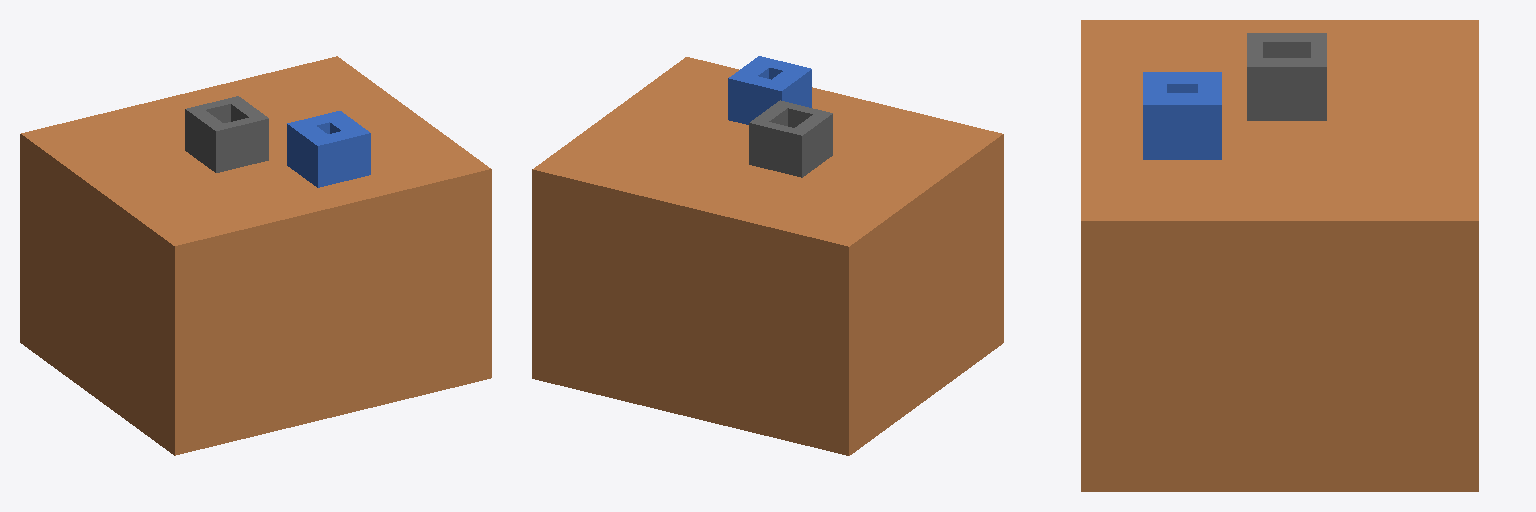
robot.urdf — peg_in_hole_fixtured_scene_0028_peg0003_tol04:
<?xml version="1.0"?>
<robot name="peg_in_hole_fixtured_scene_0028_peg0003_tol04">
  <material name="wood"><color rgba="0.82 0.56 0.35 1.0"/></material>
  <material name="start_fix"><color rgba="0.30 0.50 0.85 1.0"/></material>
  <material name="goal_fix"><color rgba="0.4706 0.4706 0.4706 1.0"/></material>
  <link name="box">
    <visual>
      <origin xyz="0.000000 0.000000 0.000000" rpy="0 0 0"/>
      <geometry><box size="0.475000 0.400000 0.300000"/></geometry>
      <material name="wood"/>
    </visual>
    <collision>
      <origin xyz="0.000000 0.000000 0.000000" rpy="0 0 0"/>
      <geometry><box size="0.475000 0.400000 0.300000"/></geometry>
    </collision>
    <visual>
      <origin xyz="0.052917 -0.097856 0.155000" rpy="0 0 0"/>
      <geometry><box size="0.080000 0.080000 0.010000"/></geometry>
      <material name="start_fix"/>
    </visual>
    <collision>
      <origin xyz="0.052917 -0.097856 0.155000" rpy="0 0 0"/>
      <geometry><box size="0.080000 0.080000 0.010000"/></geometry>
    </collision>
    <visual>
      <origin xyz="0.078167 -0.097856 0.185000" rpy="0 0 0"/>
      <geometry><box size="0.029500 0.080000 0.050000"/></geometry>
      <material name="start_fix"/>
    </visual>
    <collision>
      <origin xyz="0.078167 -0.097856 0.185000" rpy="0 0 0"/>
      <geometry><box size="0.029500 0.080000 0.050000"/></geometry>
    </collision>
    <visual>
      <origin xyz="0.027667 -0.097856 0.185000" rpy="0 0 0"/>
      <geometry><box size="0.029500 0.080000 0.050000"/></geometry>
      <material name="start_fix"/>
    </visual>
    <collision>
      <origin xyz="0.027667 -0.097856 0.185000" rpy="0 0 0"/>
      <geometry><box size="0.029500 0.080000 0.050000"/></geometry>
    </collision>
    <visual>
      <origin xyz="0.052917 -0.070106 0.185000" rpy="0 0 0"/>
      <geometry><box size="0.021000 0.024500 0.050000"/></geometry>
      <material name="start_fix"/>
    </visual>
    <collision>
      <origin xyz="0.052917 -0.070106 0.185000" rpy="0 0 0"/>
      <geometry><box size="0.021000 0.024500 0.050000"/></geometry>
    </collision>
    <visual>
      <origin xyz="0.052917 -0.125606 0.185000" rpy="0 0 0"/>
      <geometry><box size="0.021000 0.024500 0.050000"/></geometry>
      <material name="start_fix"/>
    </visual>
    <collision>
      <origin xyz="0.052917 -0.125606 0.185000" rpy="0 0 0"/>
      <geometry><box size="0.021000 0.024500 0.050000"/></geometry>
    </collision>
    <visual>
      <origin xyz="-0.038840 0.007097 0.155000" rpy="0 0 0"/>
      <geometry><box size="0.080000 0.080000 0.010000"/></geometry>
      <material name="goal_fix"/>
    </visual>
    <collision>
      <origin xyz="-0.038840 0.007097 0.155000" rpy="0 0 0"/>
      <geometry><box size="0.080000 0.080000 0.010000"/></geometry>
    </collision>
    <visual>
      <origin xyz="-0.009262 0.007097 0.185000" rpy="0 0 0"/>
      <geometry><box size="0.020845 0.080000 0.050000"/></geometry>
      <material name="goal_fix"/>
    </visual>
    <collision>
      <origin xyz="-0.009262 0.007097 0.185000" rpy="0 0 0"/>
      <geometry><box size="0.020845 0.080000 0.050000"/></geometry>
    </collision>
    <visual>
      <origin xyz="-0.068418 0.007097 0.185000" rpy="0 0 0"/>
      <geometry><box size="0.020845 0.080000 0.050000"/></geometry>
      <material name="goal_fix"/>
    </visual>
    <collision>
      <origin xyz="-0.068418 0.007097 0.185000" rpy="0 0 0"/>
      <geometry><box size="0.020845 0.080000 0.050000"/></geometry>
    </collision>
    <visual>
      <origin xyz="-0.038840 0.039174 0.185000" rpy="0 0 0"/>
      <geometry><box size="0.038311 0.015845 0.050000"/></geometry>
      <material name="goal_fix"/>
    </visual>
    <collision>
      <origin xyz="-0.038840 0.039174 0.185000" rpy="0 0 0"/>
      <geometry><box size="0.038311 0.015845 0.050000"/></geometry>
    </collision>
    <visual>
      <origin xyz="-0.038840 -0.024981 0.185000" rpy="0 0 0"/>
      <geometry><box size="0.038311 0.015845 0.050000"/></geometry>
      <material name="goal_fix"/>
    </visual>
    <collision>
      <origin xyz="-0.038840 -0.024981 0.185000" rpy="0 0 0"/>
      <geometry><box size="0.038311 0.015845 0.050000"/></geometry>
    </collision>
    <inertial>
      <mass value="500"/>
      <friction value="1.0"/>
      <inertia ixx="1000.0" ixy="0.0" ixz="0.0" iyy="1000.0" iyz="0.0" izz="1000.0"/>
    </inertial>
  </link>
</robot>

--- Render facts (derived) ---
3 views of the same robot in one strip: view 1: azimuth 30°, elevation 25°; view 2: azimuth 150°, elevation 25°; view 3: azimuth 270°, elevation 25° (orthographic).
Robot: peg_in_hole_fixtured_scene_0028_peg0003_tol04 — 1 links, 0 joints (none); root link box; default pose: every joint at zero.
Links seen in each view (by area): view 1: box; view 2: box; view 3: box.
Link boxes in pixels (x1,y1,x2,y2): box: (20, 56, 491, 455); box: (532, 56, 1003, 455); box: (1081, 20, 1478, 491).
Bounding box of the posed robot: 0.475 × 0.4 × 0.36 m (x, y, z).
Geometry: primitives only (box / cylinder / sphere), no mesh files.
